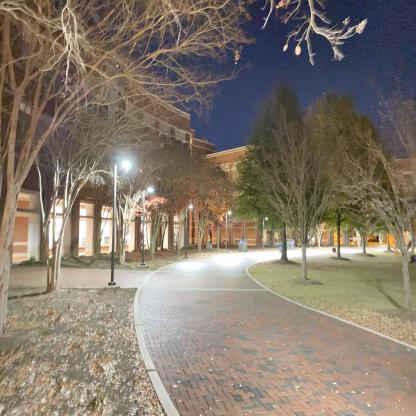eb2: (0, 19, 339, 250)
